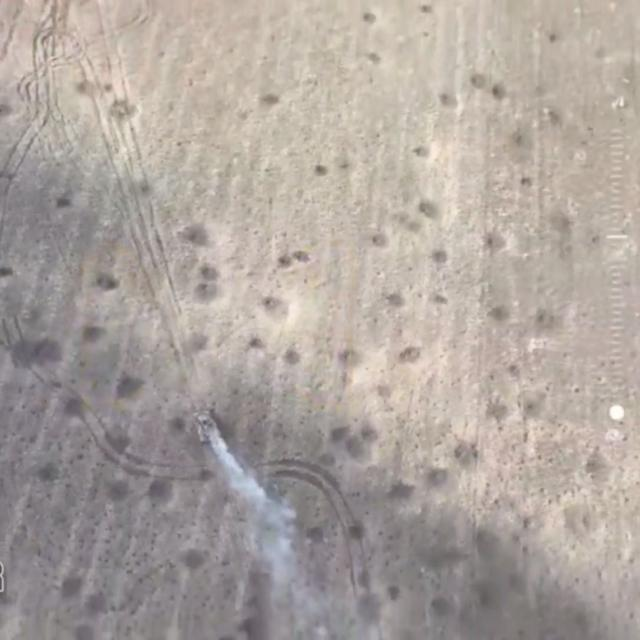MBT: (196, 405, 218, 444)
